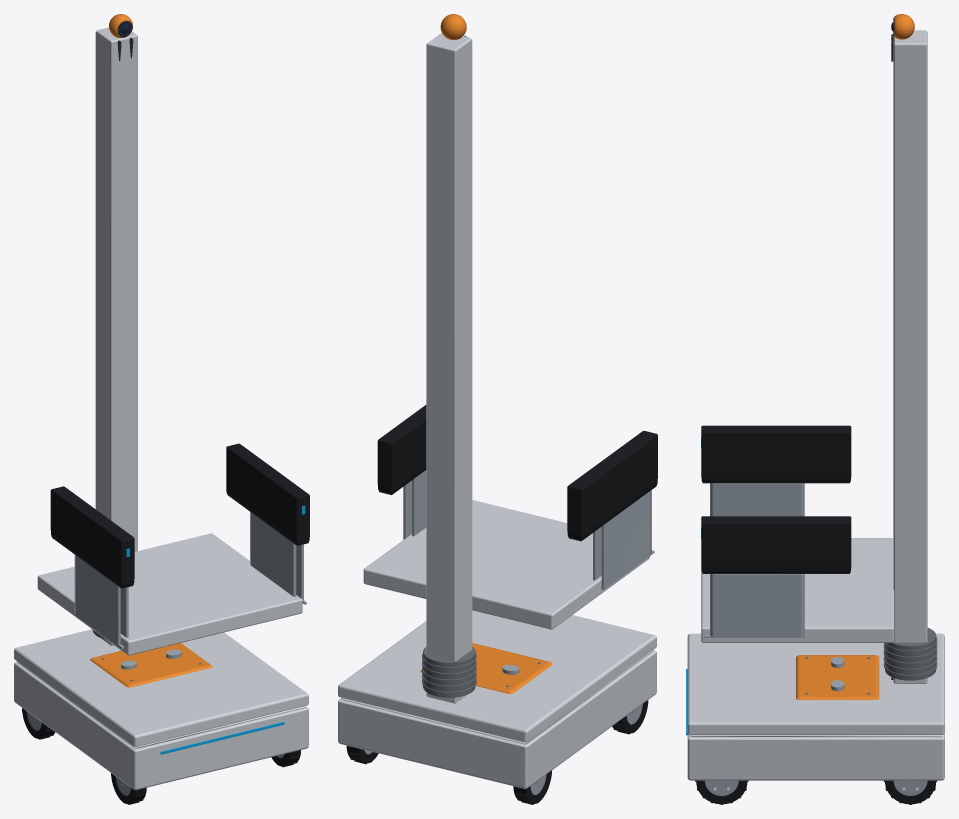
The model's file is sample-r09.glb.
3 views of the same model, side by side, from view 1: azimuth 30°, elevation 25°; view 2: azimuth 150°, elevation 25°; view 3: azimuth 270°, elevation 25° (orthographic). The views are drawn at different scales.
Visible parts, largest first — view 1: base, mast, lift-arm, gripper-l, gripper-r, battery, wheel-fl; view 2: base, mast, lift-arm, gripper-l, gripper-r, battery, lift-motor, wheel-bl, wheel-fl; view 3: base, mast, gripper-r, gripper-l, lift-arm, battery, lift-motor, wheel-br, wheel-fr, top-sensor.
Part boxes in pixels (box(x1,y1,x2,y2)): base: box(14, 629, 308, 790); mast: box(95, 27, 137, 645); lift-arm: box(37, 533, 302, 655); gripper-l: box(50, 486, 134, 649); gripper-r: box(226, 443, 309, 604); battery: box(90, 643, 212, 687); wheel-fl: box(111, 773, 146, 804); base: box(338, 610, 656, 788); mast: box(426, 33, 472, 703); lift-arm: box(363, 500, 650, 629); gripper-l: box(567, 430, 657, 589); gripper-r: box(377, 405, 426, 539); battery: box(420, 643, 552, 693); lift-motor: box(422, 647, 476, 697); wheel-bl: box(513, 770, 551, 804); wheel-fl: box(612, 700, 648, 734); base: box(686, 633, 944, 780); mast: box(891, 30, 927, 684); gripper-r: box(701, 516, 851, 638); gripper-l: box(701, 425, 851, 516); lift-arm: box(701, 538, 894, 642); battery: box(796, 655, 879, 699); lift-motor: box(883, 628, 937, 680); wheel-br: box(884, 780, 937, 804); wheel-fr: box(695, 780, 748, 804); top-sensor: box(891, 14, 914, 39).
Bounding box in the file's own units: 0.54 × 1.92 × 0.6034.
